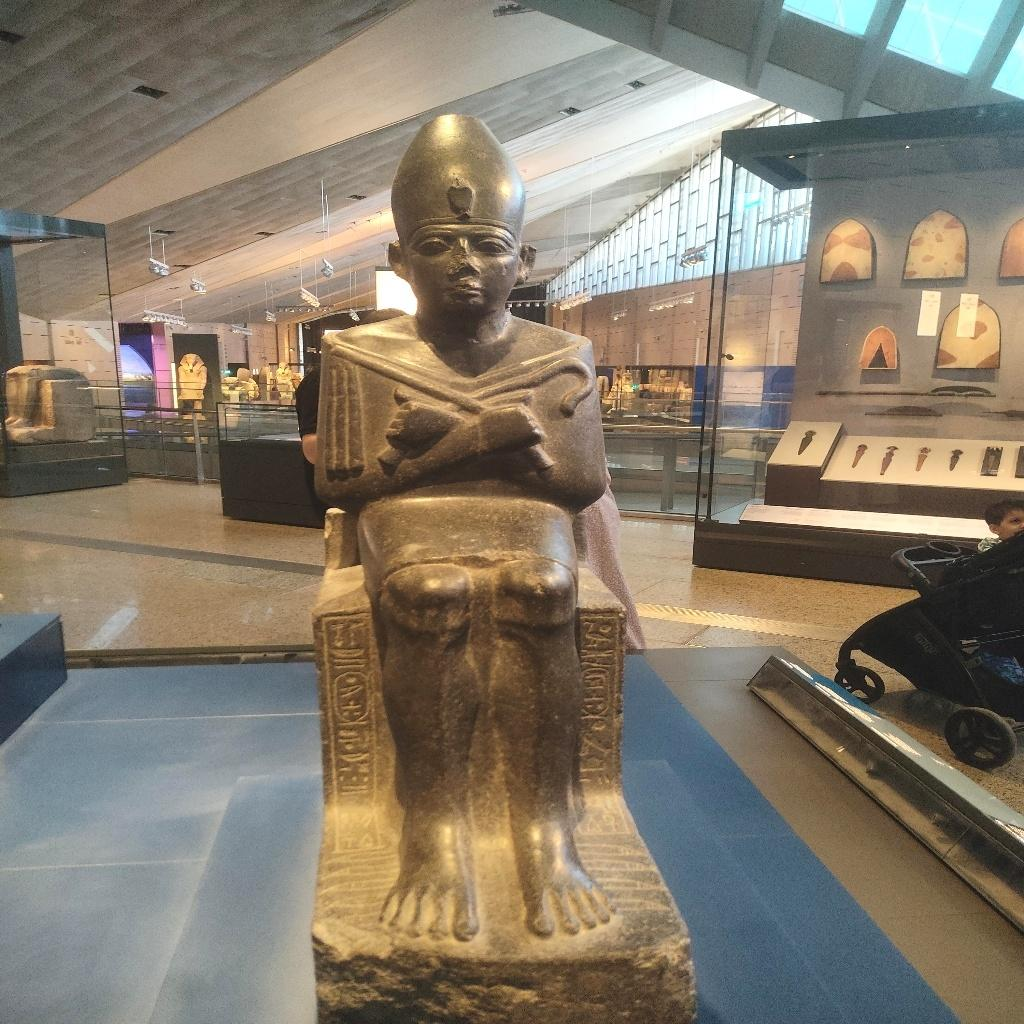Statue of Sobekhotep V: (302, 110, 629, 957)
